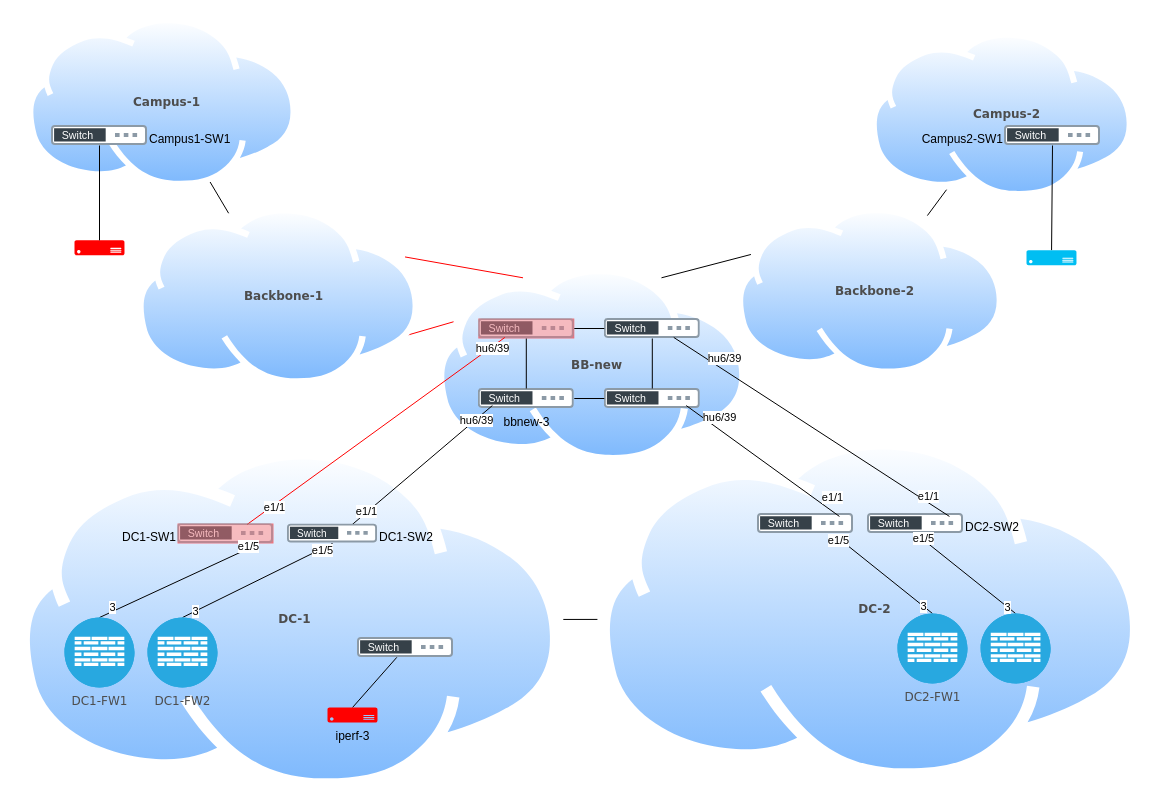
This 1160x808 diagram has some shape labels left out. Here are the shapes that lost their labels. From the top down, the box of each, then its label:
(74, 240, 124, 255): iperf-1
(1026, 250, 1076, 265): iperf-2
(478, 318, 574, 338): bbnew-1
(604, 318, 700, 338): bbnew-2
(604, 388, 700, 408): bbnew-4
(757, 513, 853, 533): DC2-SW1
(357, 637, 453, 657): TBD-IPERF
(980, 612, 1051, 684): DC2-FW2
